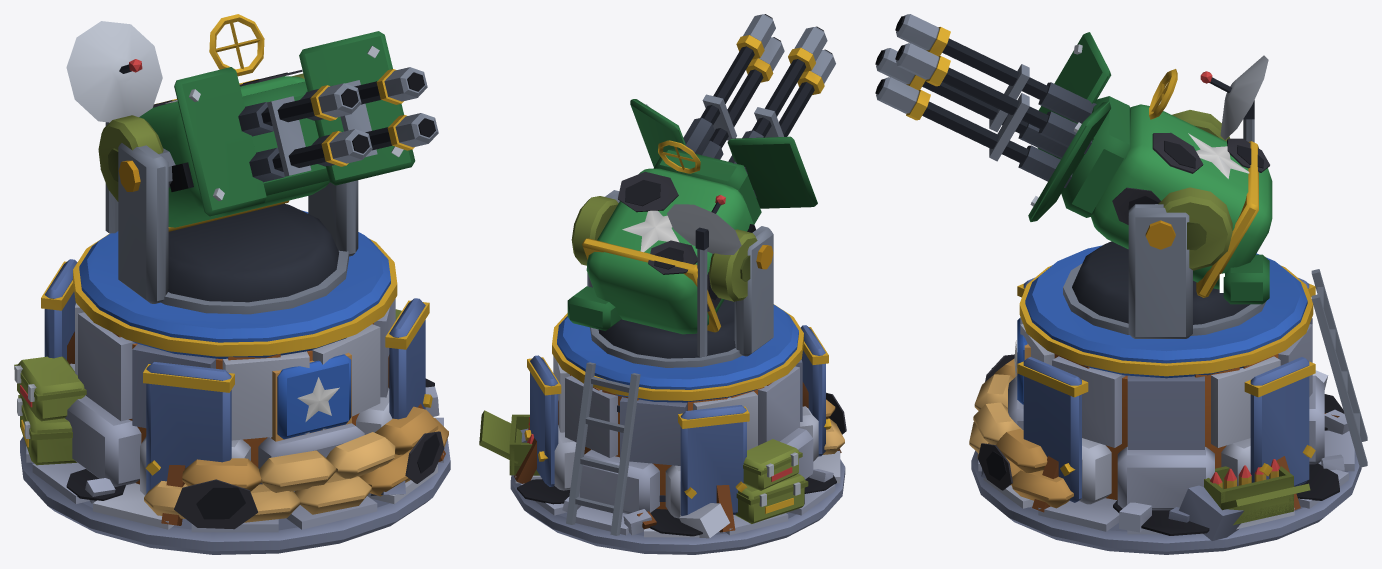
3 renders of one model, left to right at view 1: azimuth 30°, elevation 25°; view 2: azimuth 150°, elevation 25°; view 3: azimuth 270°, elevation 25°, orthographic. The views are drawn at different scales.
Parts seen in each view (by area): view 1: lv4_stone, base, head, pitch, lv7_armor, lv4_shield, spin_radar, dmg2_base, dmg1_base, lvmax3_wood, lv7_trim; view 2: pitch, lv4_stone, base, lv7_armor, head, lv4_shield, lv7_ladder, lv7_trim, dmg2_base, spin_radar, dmg2_head, lvmax3_wood (+2 smaller); view 3: pitch, lv4_stone, base, lv7_armor, head, dmg2_base, lv4_shield, lv7_trim, lv7_ladder, dmg1_base, lvmax3_wood, spin_radar (+2 smaller).
Part boxes in pixels (<box>): lv4_stone: <box>65,210,395,495</box>; base: <box>14,309,450,554</box>; head: <box>105,122,358,314</box>; pitch: <box>98,14,438,227</box>; lv7_armor: <box>41,233,432,493</box>; lv4_shield: <box>174,31,415,216</box>; spin_radar: <box>66,21,162,122</box>; dmg2_base: <box>174,378,439,529</box>; dmg1_base: <box>66,431,444,503</box>; lvmax3_wood: <box>67,323,445,525</box>; lv7_trim: <box>156,69,414,231</box>; pitch: <box>571,14,835,334</box>; lv4_stone: <box>553,304,818,518</box>; base: <box>479,399,845,554</box>; lv7_armor: <box>524,304,831,515</box>; head: <box>567,190,773,367</box>; lv4_shield: <box>630,99,817,208</box>; lv7_ladder: <box>566,362,640,535</box>; lv7_trim: <box>582,35,824,332</box>; dmg2_base: <box>520,392,846,538</box>; spin_radar: <box>667,195,741,254</box>; dmg2_head: <box>618,171,721,311</box>; lvmax3_wood: <box>514,375,841,532</box>; pitch: <box>875,14,1272,289</box>; lv4_stone: <box>1008,245,1324,510</box>; base: <box>969,359,1361,554</box>; lv7_armor: <box>1017,265,1315,502</box>; head: <box>1063,119,1269,338</box>; dmg2_base: <box>981,354,1349,540</box>; lv4_shield: <box>1028,32,1111,221</box>; lv7_trim: <box>906,27,1258,297</box>; lv7_ladder: <box>1311,269,1367,467</box>; dmg1_base: <box>978,443,1344,522</box>; lvmax3_wood: <box>1024,344,1300,512</box>; spin_radar: <box>1200,55,1268,139</box>.
Bounding box in the file's own units: 3.63 × 4.3 × 4.29.
